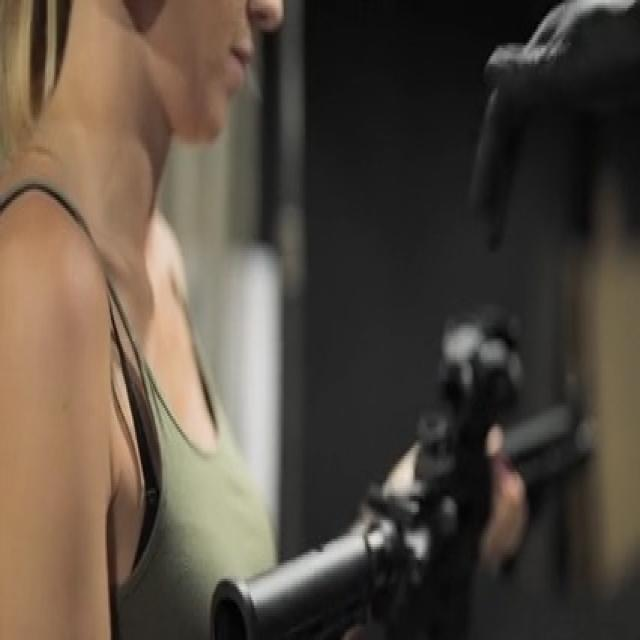Gun_Holder: (201, 277, 640, 640)
Person: (11, 0, 351, 638)
